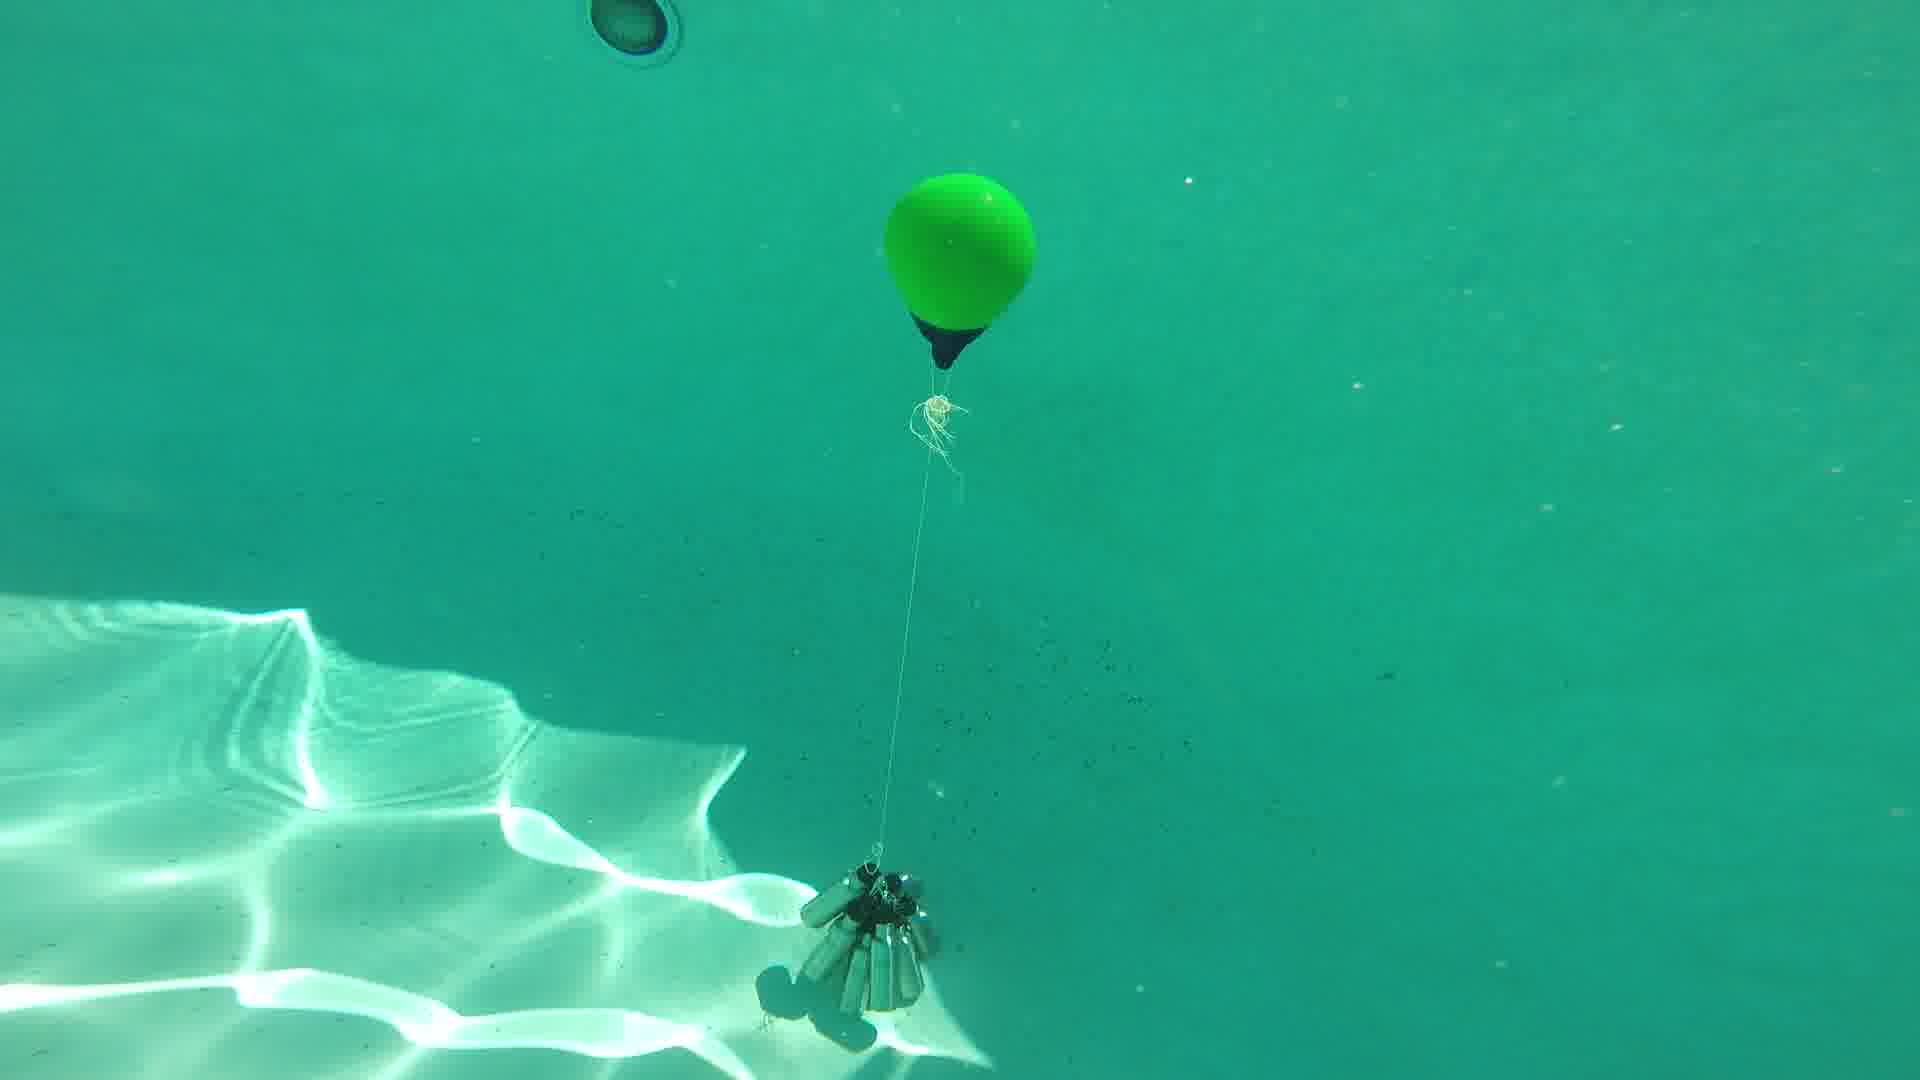yellow_buoy: (885, 171, 1038, 373)
